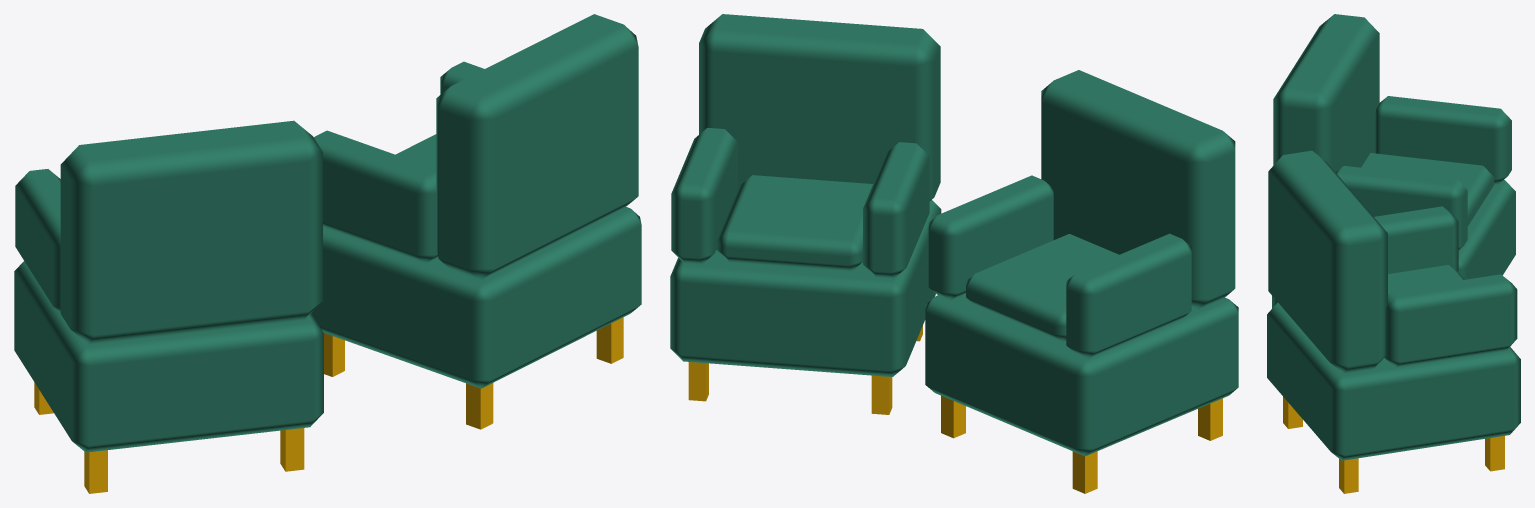
File: station_buffer_ausstattung_3_1.glb
3 renders of one model, left to right at view 1: azimuth 30°, elevation 25°; view 2: azimuth 150°, elevation 25°; view 3: azimuth 270°, elevation 25°, orthographic. The views are drawn at different scales.
Parts seen in each view (by area): view 1: station_buffer_ausstattung_3_1; view 2: station_buffer_ausstattung_3_1; view 3: station_buffer_ausstattung_3_1.
Part boxes in pixels (x1,y1,x2,y2): station_buffer_ausstattung_3_1: [14, 14, 641, 493]; station_buffer_ausstattung_3_1: [670, 14, 1238, 493]; station_buffer_ausstattung_3_1: [1267, 14, 1520, 493].
Size of the model in its own units: 1.37 by 0.76 by 0.6528.
